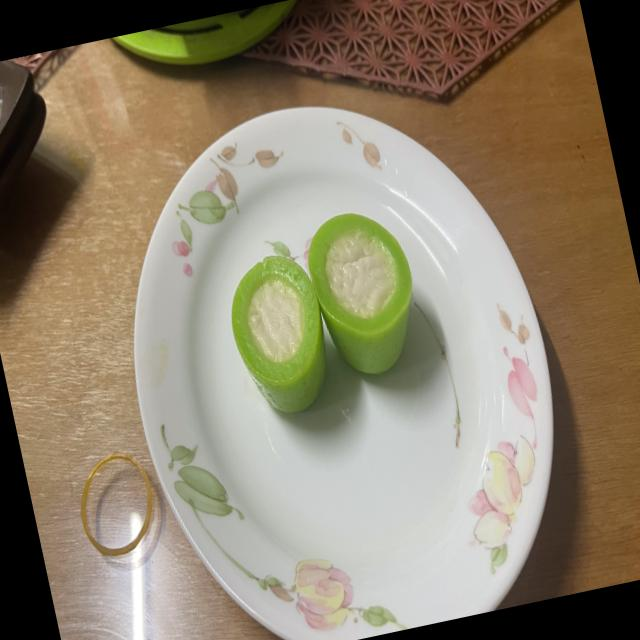nona-manis: (308, 213, 412, 374), (231, 255, 326, 413)
